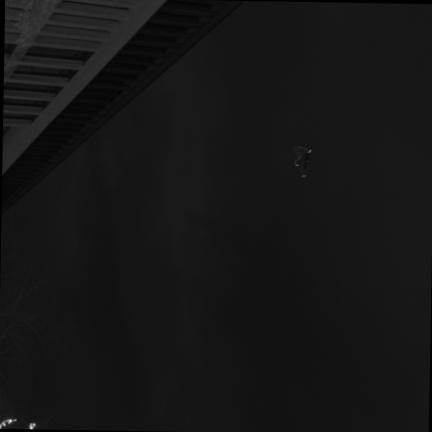Shahed: (292, 147, 310, 176)
